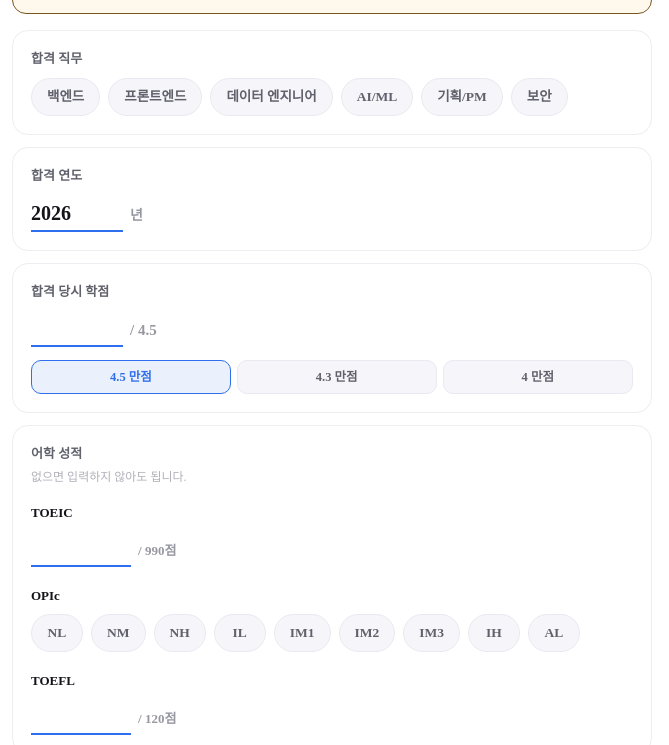
Test: AdminPasserEntryTab › 등록에 실패하면 오류 메시지를 보여주고 폼을 리셋하지 않는다
Click the button "백엔드": x=66, y=97 [31,78,100,116]
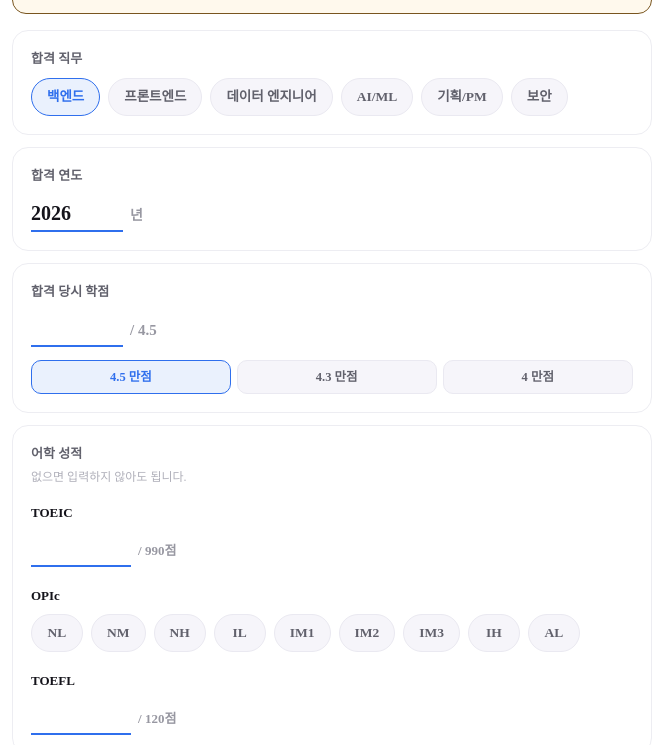
In the field labelled "합격 당시 학점": x=77, y=329 [31,311,123,347], type "3.8"
(page scrolled)
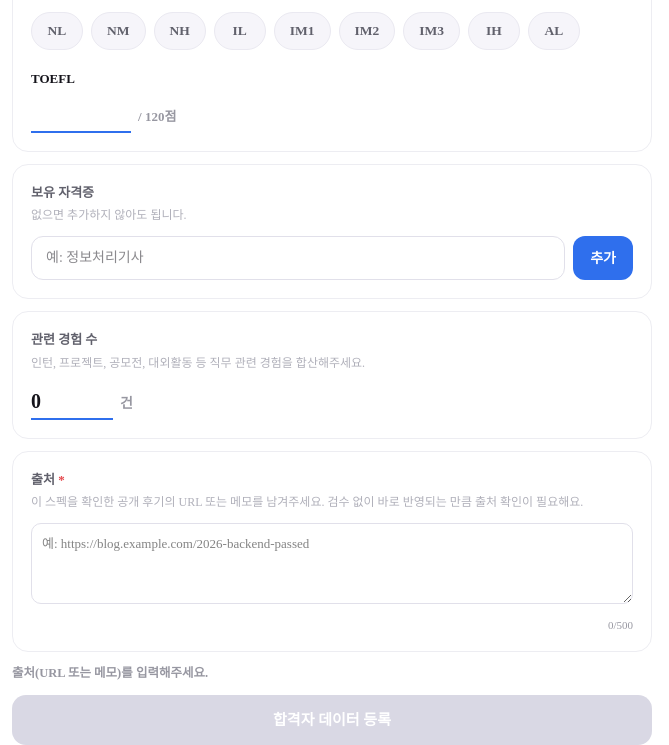
In the text box labelled "출처 *": x=332, y=564 [31,523,633,604], type "https://blog.example.com/passed-2026"
(page scrolled)
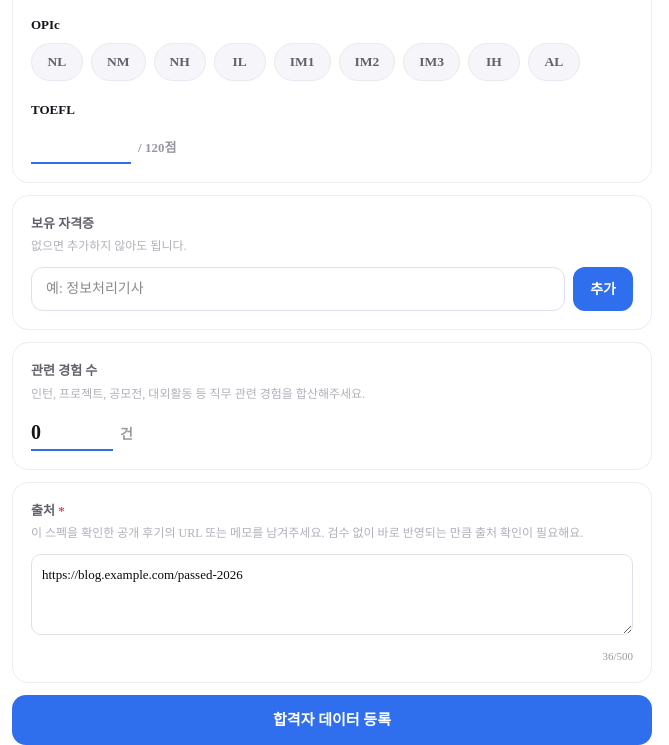
Click the button "합격자 데이터 등록": x=332, y=720 [12,695,652,744]
(page scrolled)
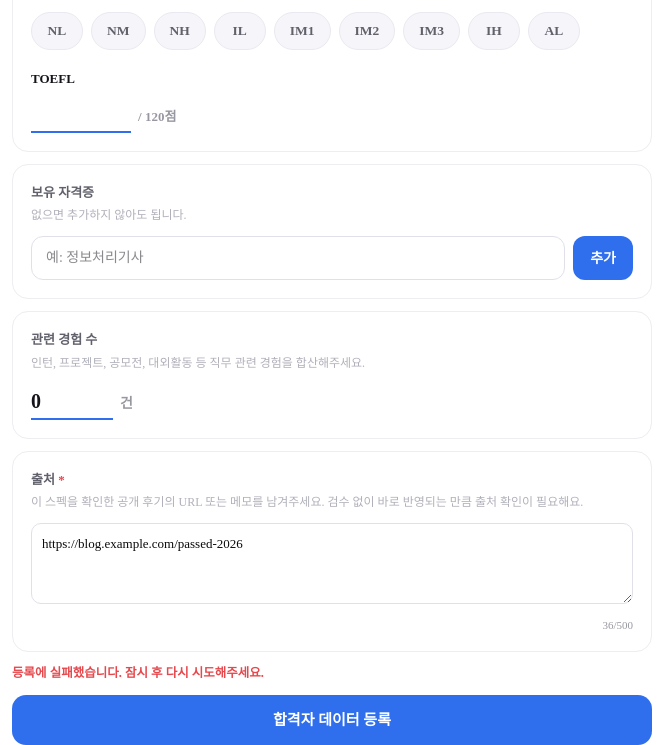
expect the text "등록에 실패했습니다. 잠시 후 다시 시도해주세요." is shown: met, box [12,666,264,680]
